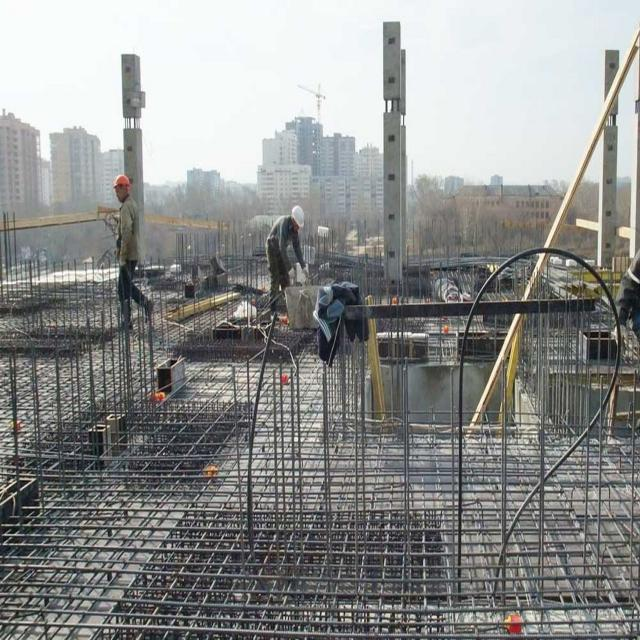Helmet: (291, 208, 307, 231), (115, 176, 130, 192)
NoJacket: (119, 197, 137, 266), (272, 221, 293, 266)
